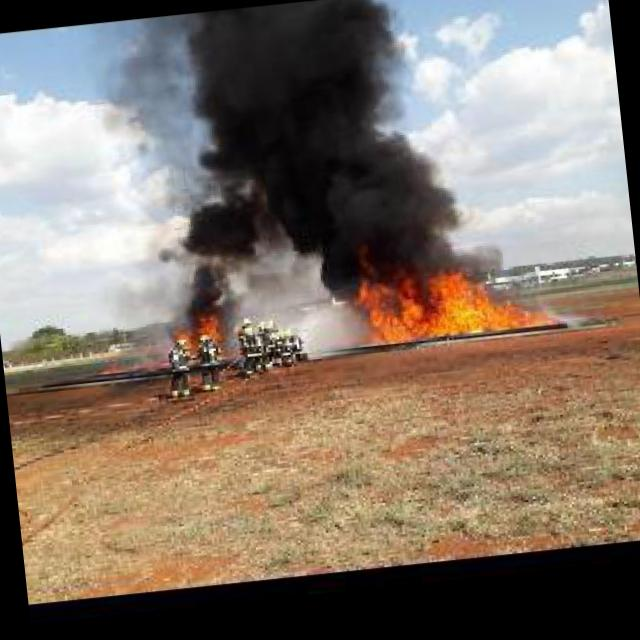fire: (350, 251, 550, 349), (190, 314, 222, 338), (178, 329, 194, 349), (102, 362, 120, 373)
smoke: (185, 0, 470, 297), (172, 250, 243, 325)
